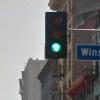Traffic light: (40, 12, 70, 60)
